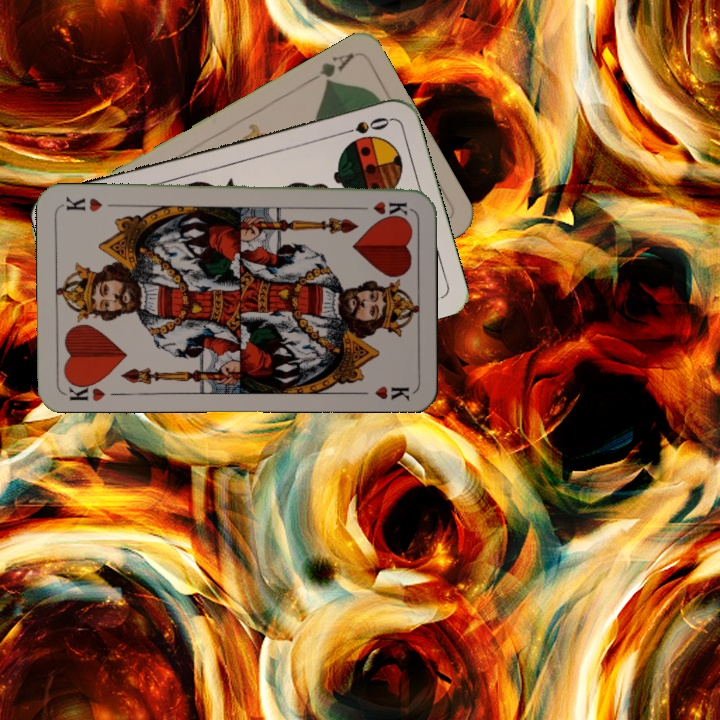GA: (303, 48, 357, 89)
HK: (63, 376, 108, 404), (351, 197, 410, 217)
SO: (334, 113, 392, 139)
